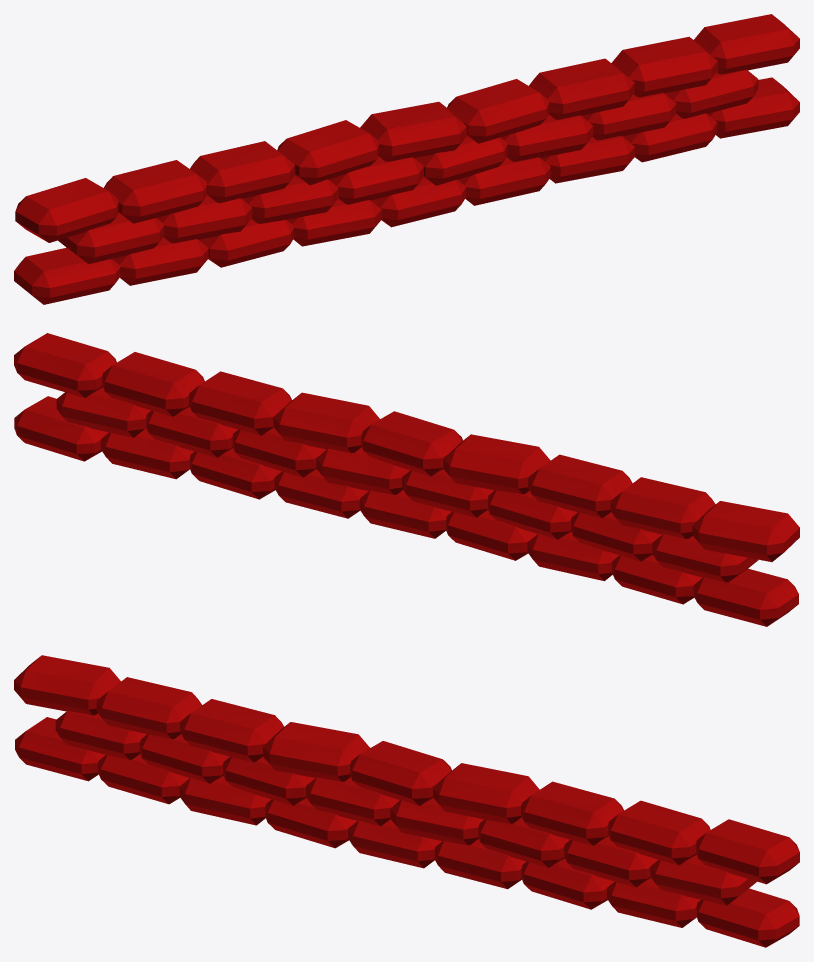
File: sandbag_wall.glb
The picture shows the model from 3 angles, top to bottom: view 1: azimuth 30°, elevation 25°; view 2: azimuth 150°, elevation 25°; view 3: azimuth 330°, elevation 25°; orthographic projection.
Parts seen in each view (by area): view 1: sandbags; view 2: sandbags; view 3: sandbags.
Part boxes in pixels (x1,y1,x2,y2): sandbags: [14, 14, 799, 304]; sandbags: [14, 333, 799, 626]; sandbags: [14, 655, 799, 947].
Size of what is drawn, in the model's own units: 4.08 by 0.49 by 0.3938.
